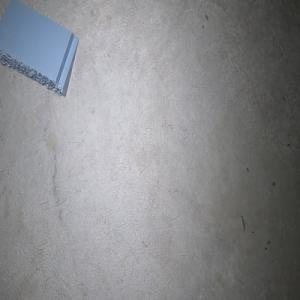PlasticPart: (0, 0, 79, 96)
